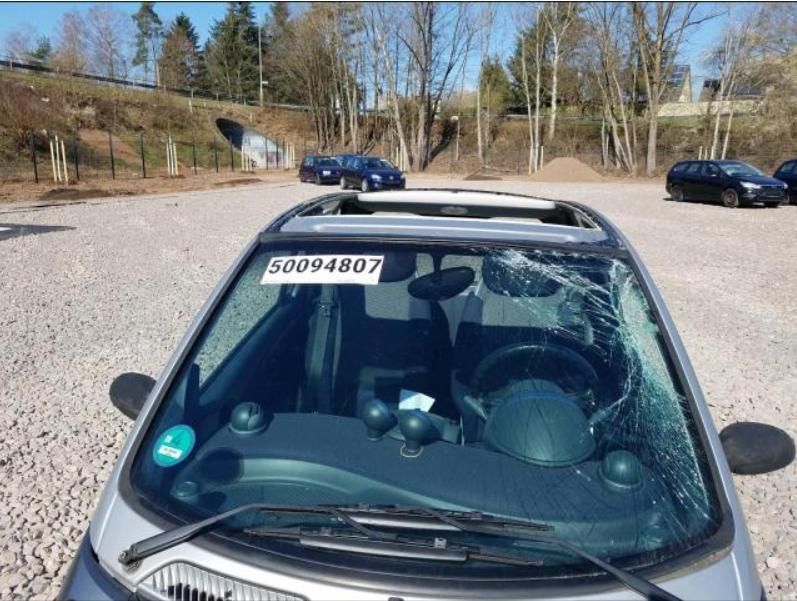Hood: (55, 527, 146, 600)
Mirror: (721, 422, 797, 474), (108, 373, 157, 423)
Roof: (255, 188, 630, 256)
Windshield: (134, 243, 719, 579)
